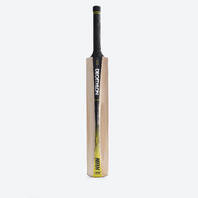bottom left: (84, 166, 95, 179)
bottom right: (102, 166, 116, 181)
top left: (80, 55, 91, 64)
top right: (104, 53, 114, 65)
